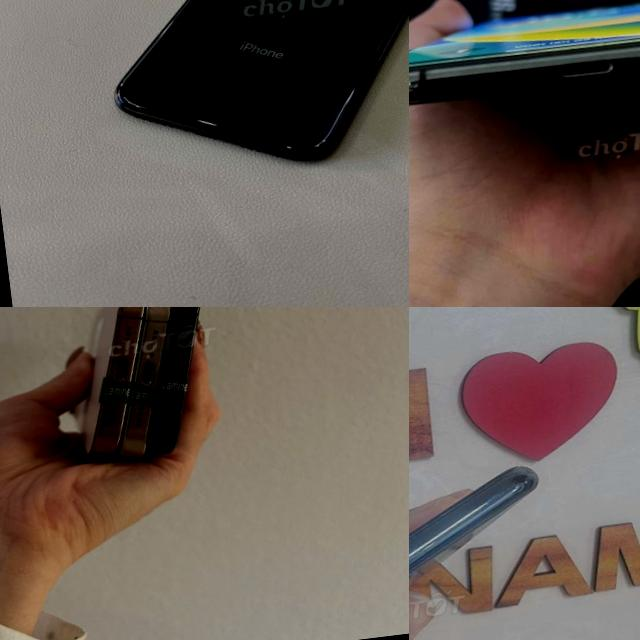gen_11: (409, 455, 579, 640), (409, 2, 640, 103)
gen_16: (78, 307, 144, 456)
gen_x_xs: (114, 0, 409, 157)
scratch: (211, 56, 255, 83), (266, 128, 286, 143)
